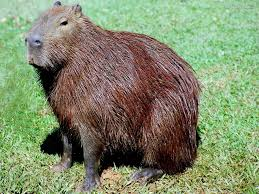capivara: (25, 1, 200, 194)
